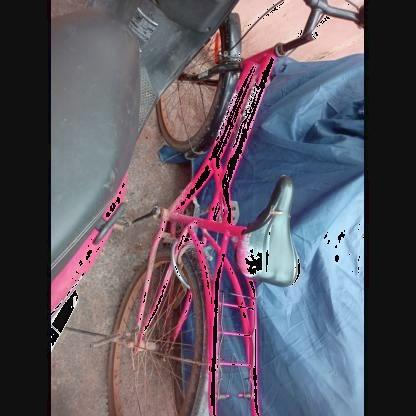Bicycle: (79, 0, 356, 415)
